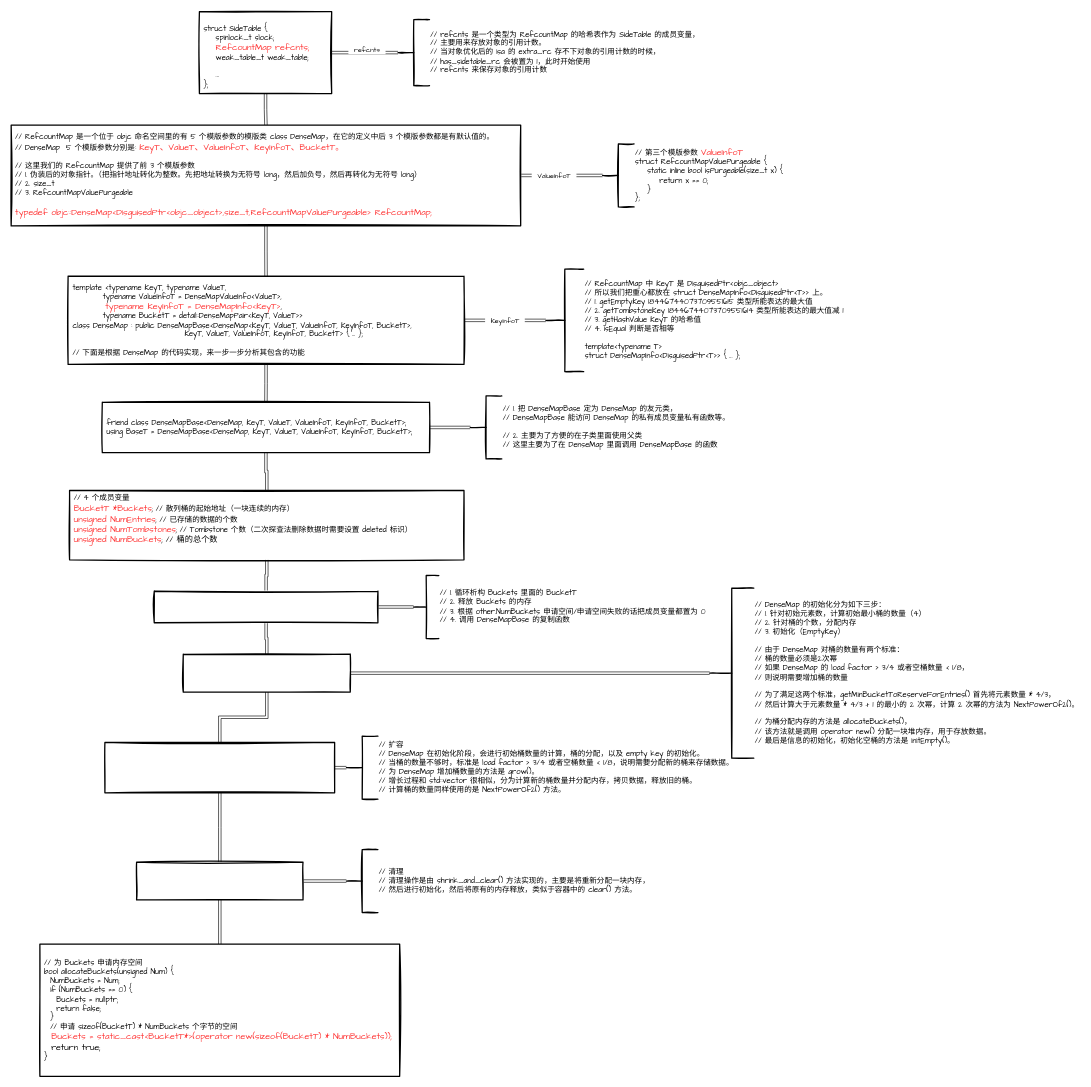
The diagram is 1091 pixels wide and 1087 high, and some of its shapes have lost their labels. The shapes that lost their labels are listed below. From the top down, each one's centre as x and y in pixels, then its label:
At (x=265, y=606): "void copyFrom(const DenseMap& other)".
At (x=266, y=672): "void init(unsigned InitNumEntries)".
At (x=219, y=767): "void grow(unsigned AtLeast)".
At (x=219, y=880): "void shrink_and_clear()".
